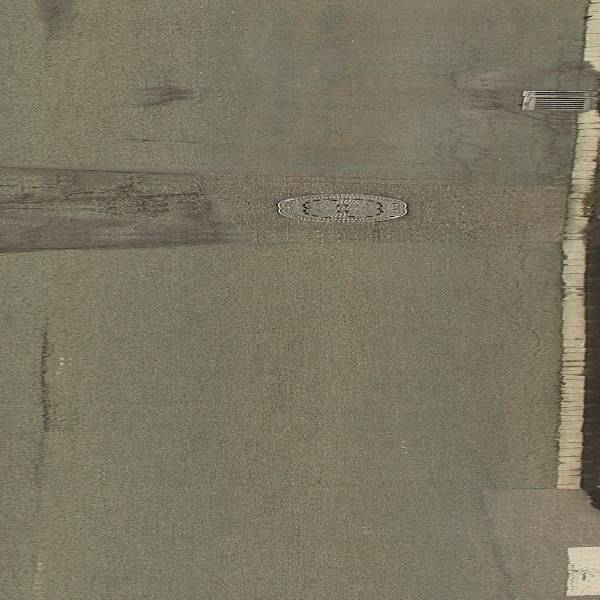road_damage: (1, 159, 574, 260), (34, 315, 73, 439), (447, 60, 521, 121)
